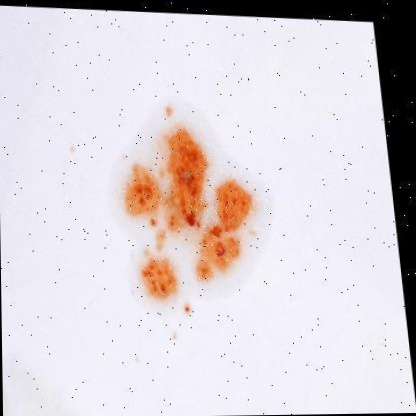kimchi: (117, 102, 268, 319)
